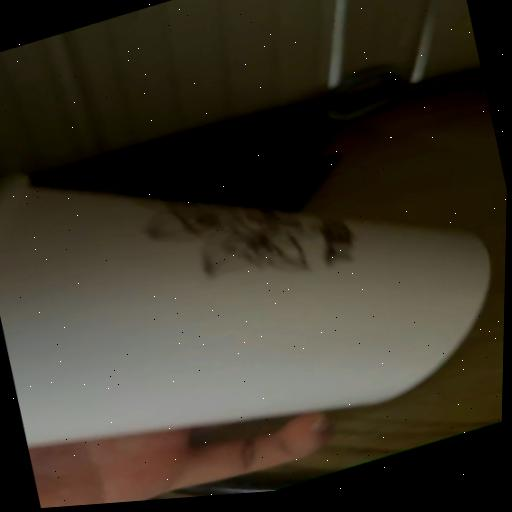Ly_giay: (0, 178, 489, 446)
